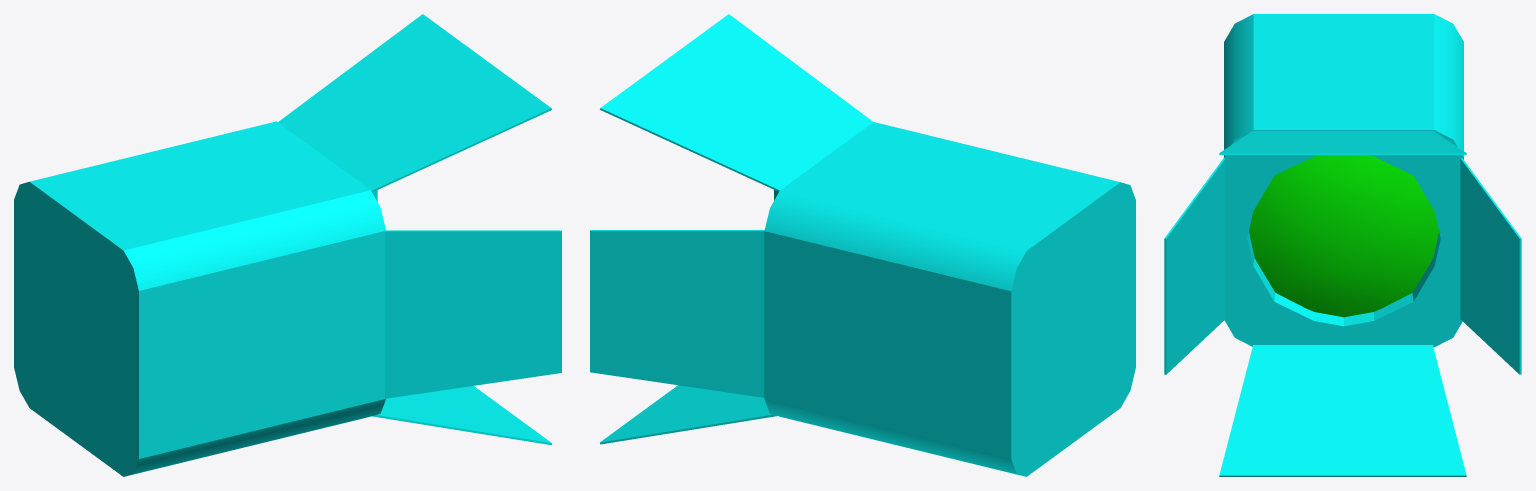
File: Spot.fbx
3 renders of one model, left to right at view 1: azimuth 30°, elevation 25°; view 2: azimuth 150°, elevation 25°; view 3: azimuth 270°, elevation 25°, orthographic. The views are drawn at different scales.
Visible parts, largest first — view 1: Spot; view 2: Spot; view 3: Spot.
Part boxes in pixels (x1,y1,x2,y2): Spot: (14,14,561,476); Spot: (590,14,1135,476); Spot: (1164,14,1521,476).
Bounding box in the file's own units: 66.46 × 52.1 × 52.1.
